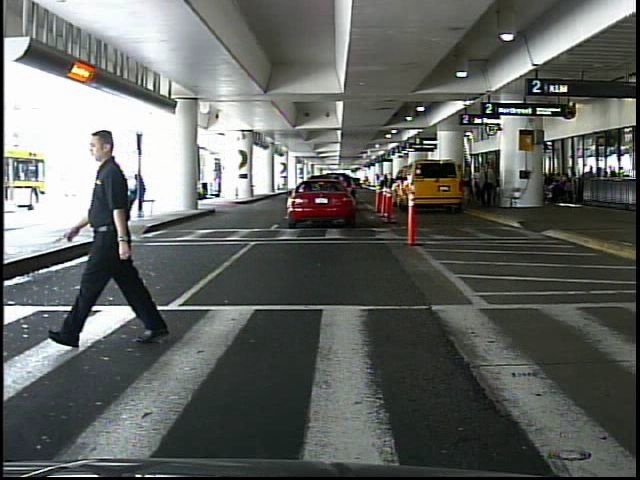person: (85, 125, 168, 349), (479, 163, 496, 209)
